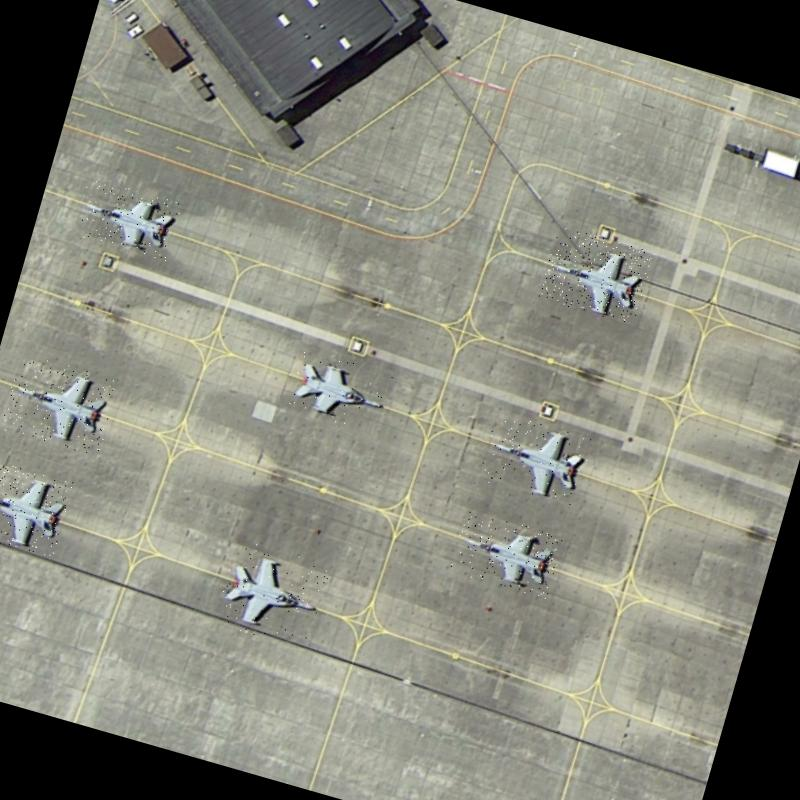A16: (214, 538, 332, 651), (0, 351, 119, 456), (538, 224, 654, 326), (477, 410, 593, 507), (449, 508, 564, 600), (284, 348, 394, 438), (72, 176, 182, 262), (0, 454, 73, 558)
